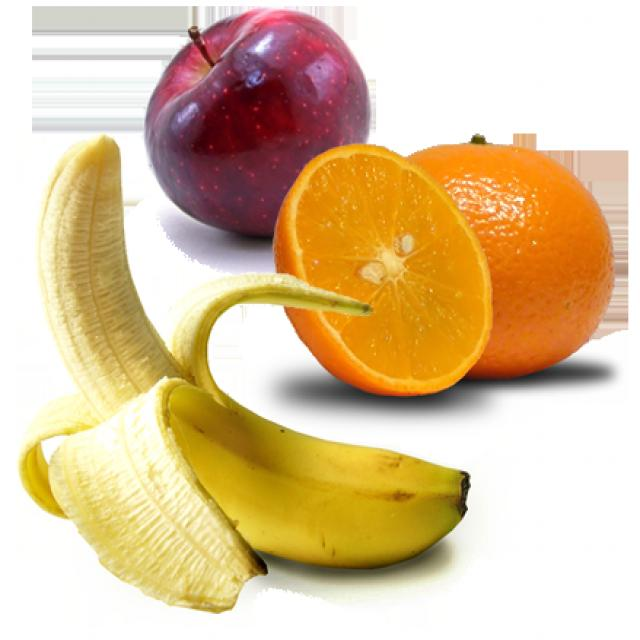apple: (141, 6, 380, 259)
banana: (22, 128, 470, 580)
orange: (261, 144, 488, 403), (404, 143, 616, 382)
